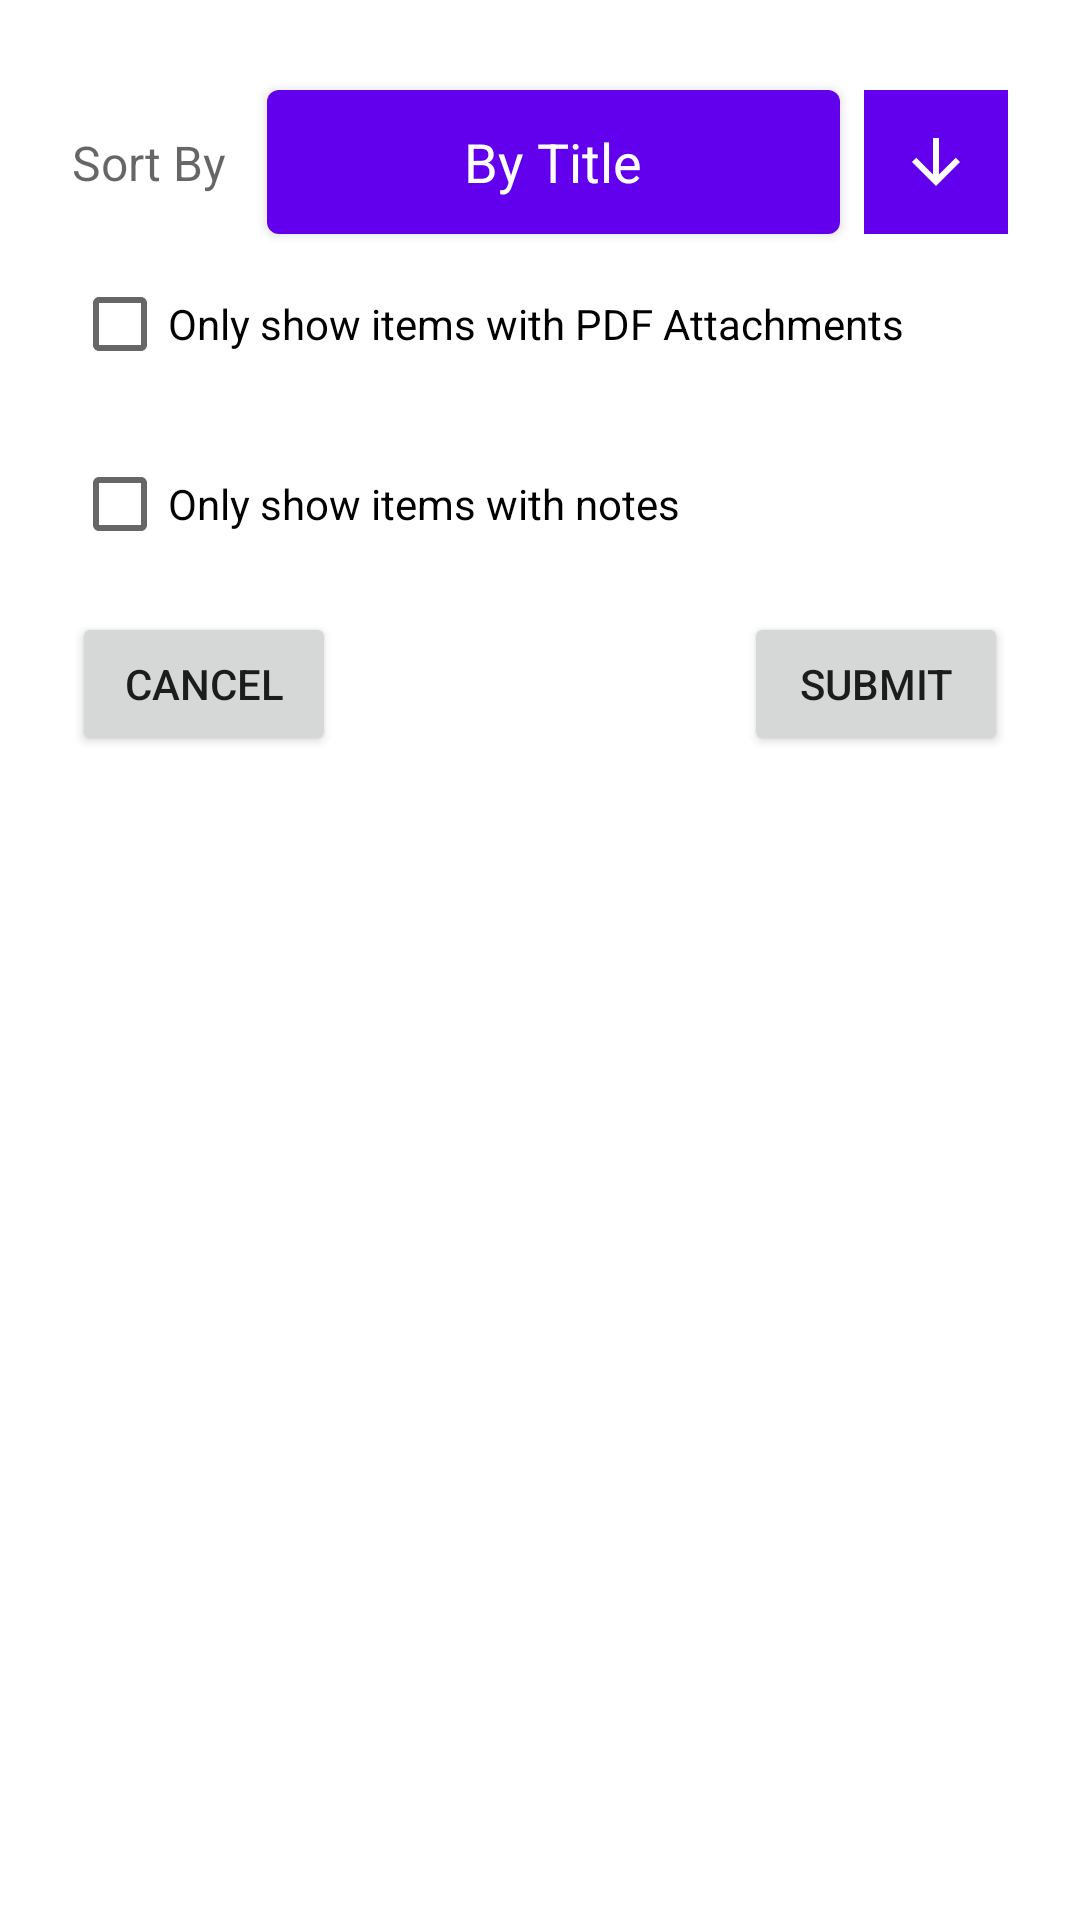

Named icons in this screenshot (1080w x 1920h) and their bounding boxes, (x1, y1, x2, y2):
arrow downward: (864, 90, 1008, 234)
